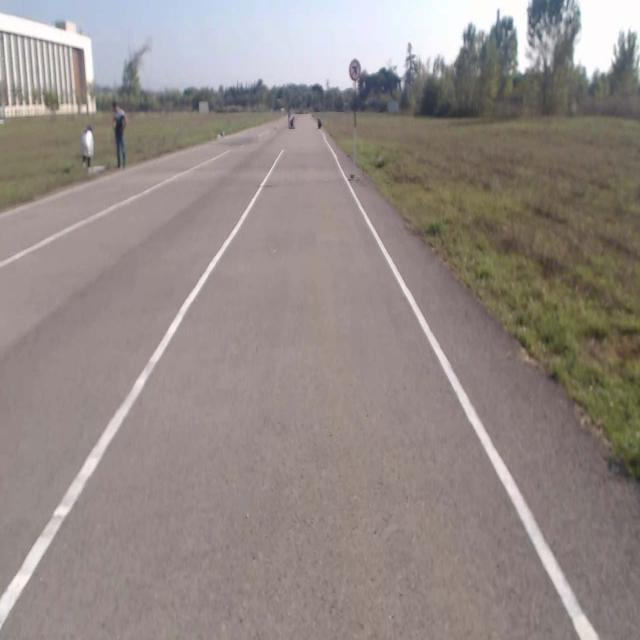soladonulmez: (348, 57, 362, 82)
